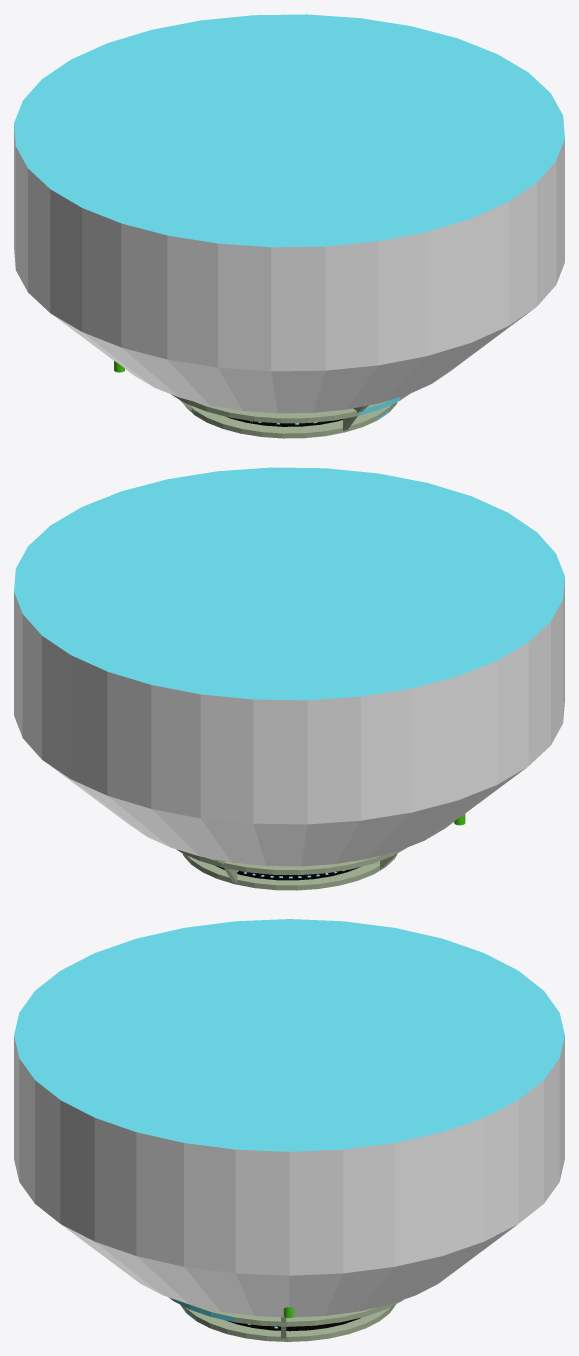
File: DetectorHumo_MarcoC_47297821.fbx
3 views of the same model, one above another, from view 1: azimuth 30°, elevation 25°; view 2: azimuth 150°, elevation 25°; view 3: azimuth 270°, elevation 25° (orthographic).
Visible parts, largest first — view 1: Sensor; view 2: Sensor; view 3: Sensor.
Boxes of the visible parts, x1=… form: Sensor: x1=14, y1=14, x2=564, y2=438; Sensor: x1=14, y1=467, x2=564, y2=890; Sensor: x1=14, y1=919, x2=564, y2=1341.
Size of the model in its own units: 10 by 5.21 by 10.
Materials: 1 (1 with a texture image).
